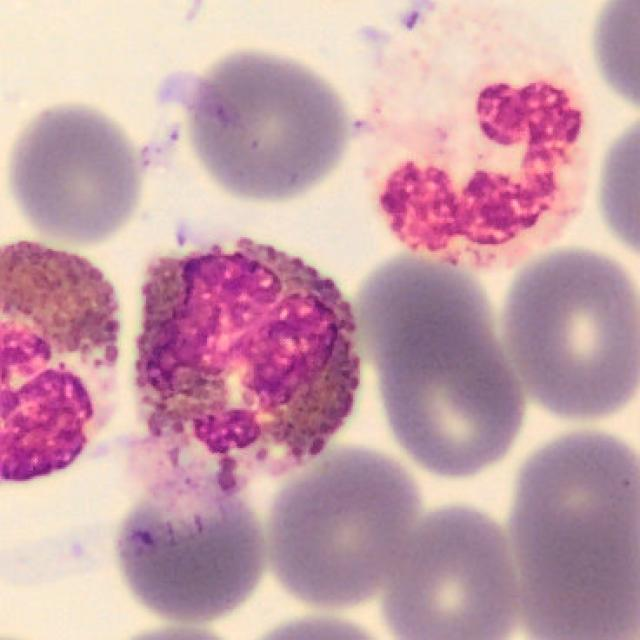Eosinofilo: (134, 239, 360, 517), (0, 242, 122, 483)
Neutrofilo segmentado: (357, 3, 607, 275)
